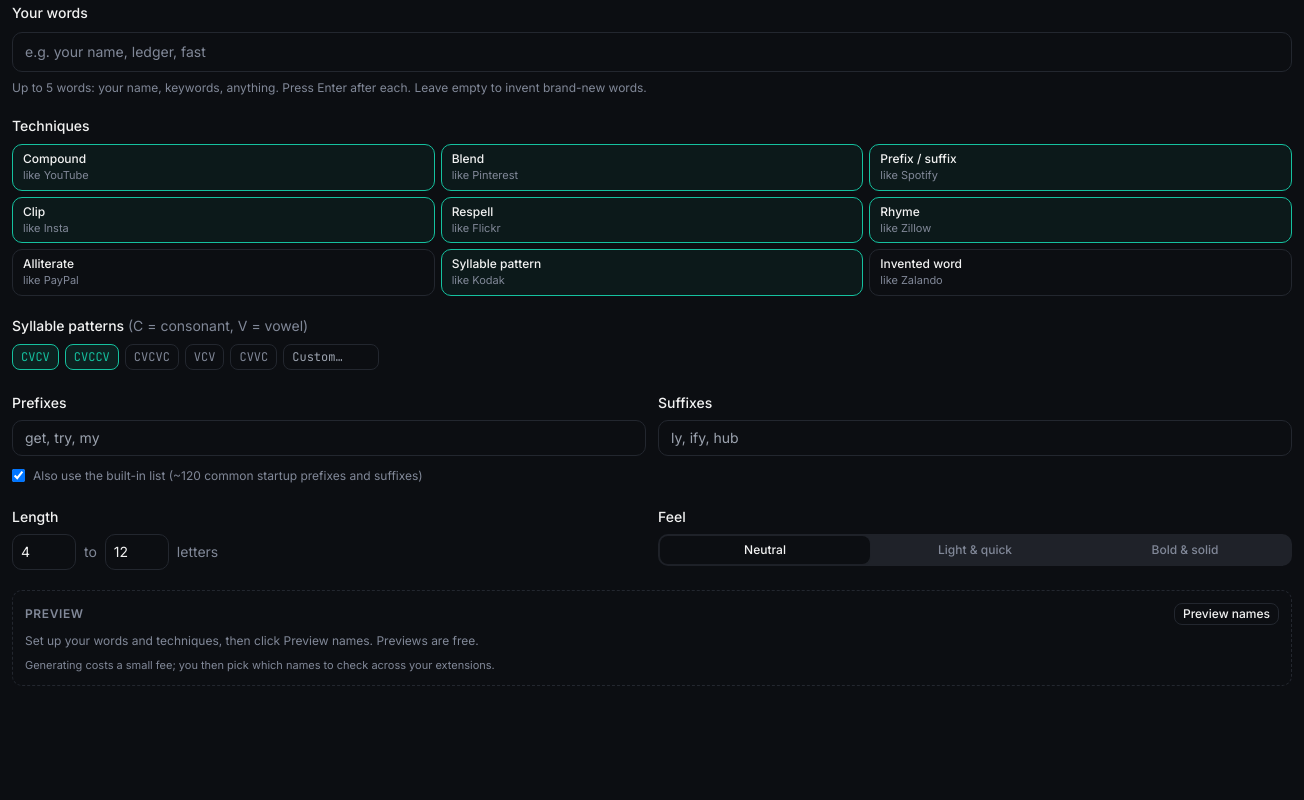
Test case: WordBuilder › only previews when Preview names is clicked
Type "ledger" into the field labelled "Your words" at coordinates (652, 52), box x1=21 y1=42 x2=1283 y2=62
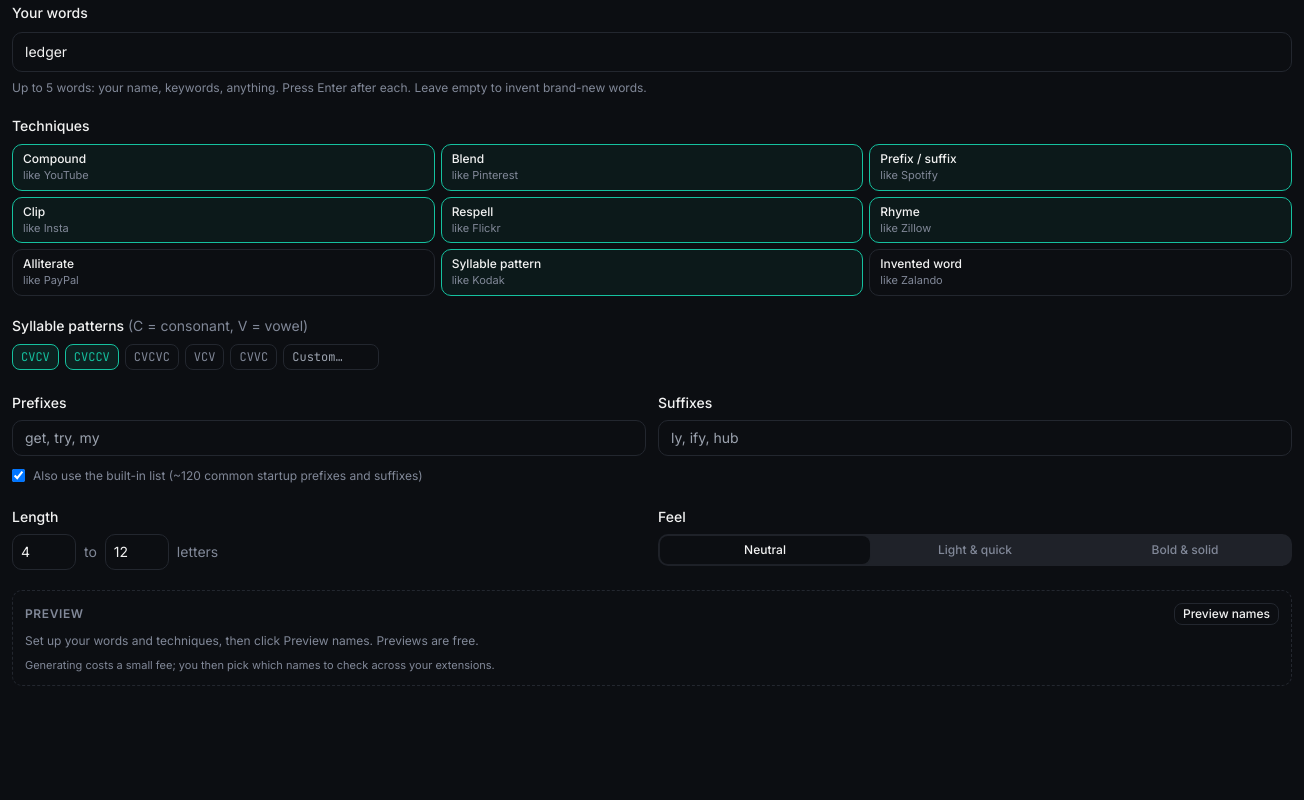
Press Enter in the field labelled "Your words", box x1=21 y1=42 x2=1283 y2=62
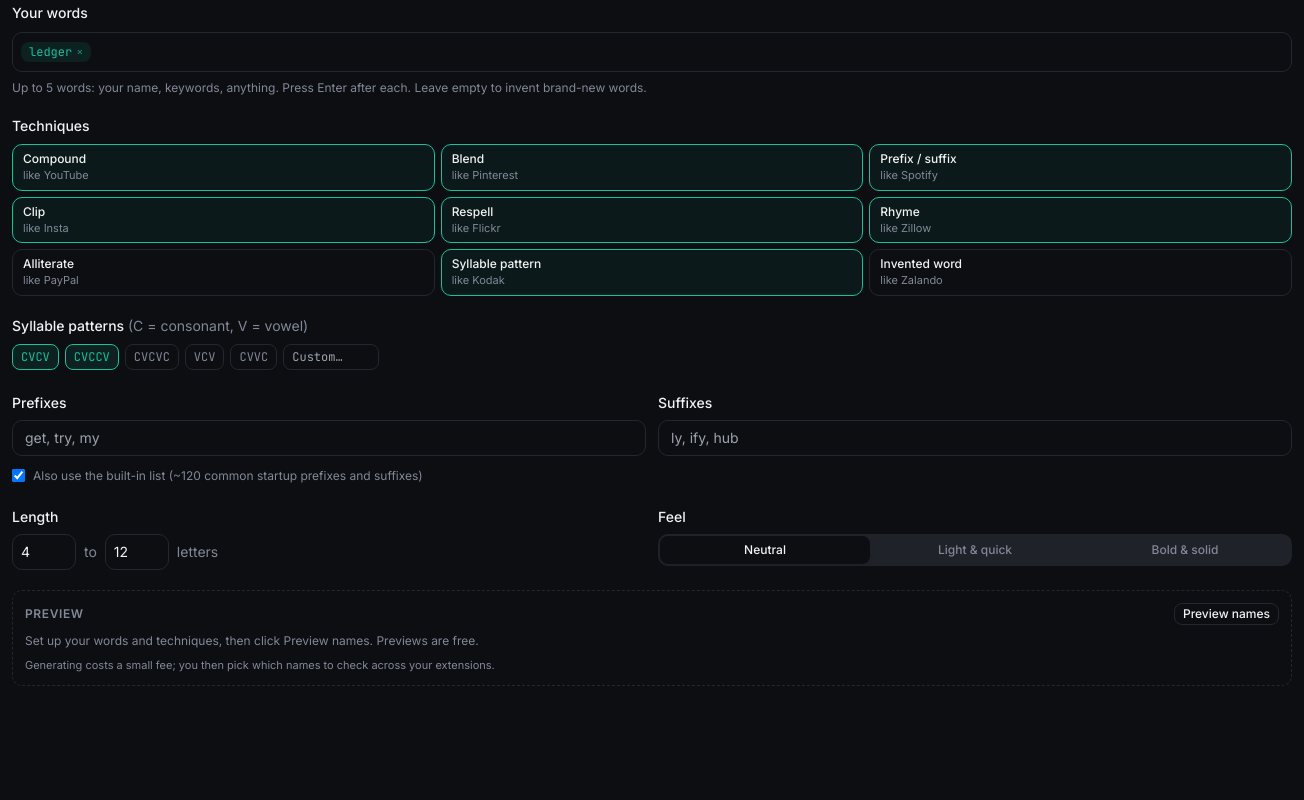
Click the text "Blend" at coordinates (468, 159), box x1=452 y1=151 x2=484 y2=167
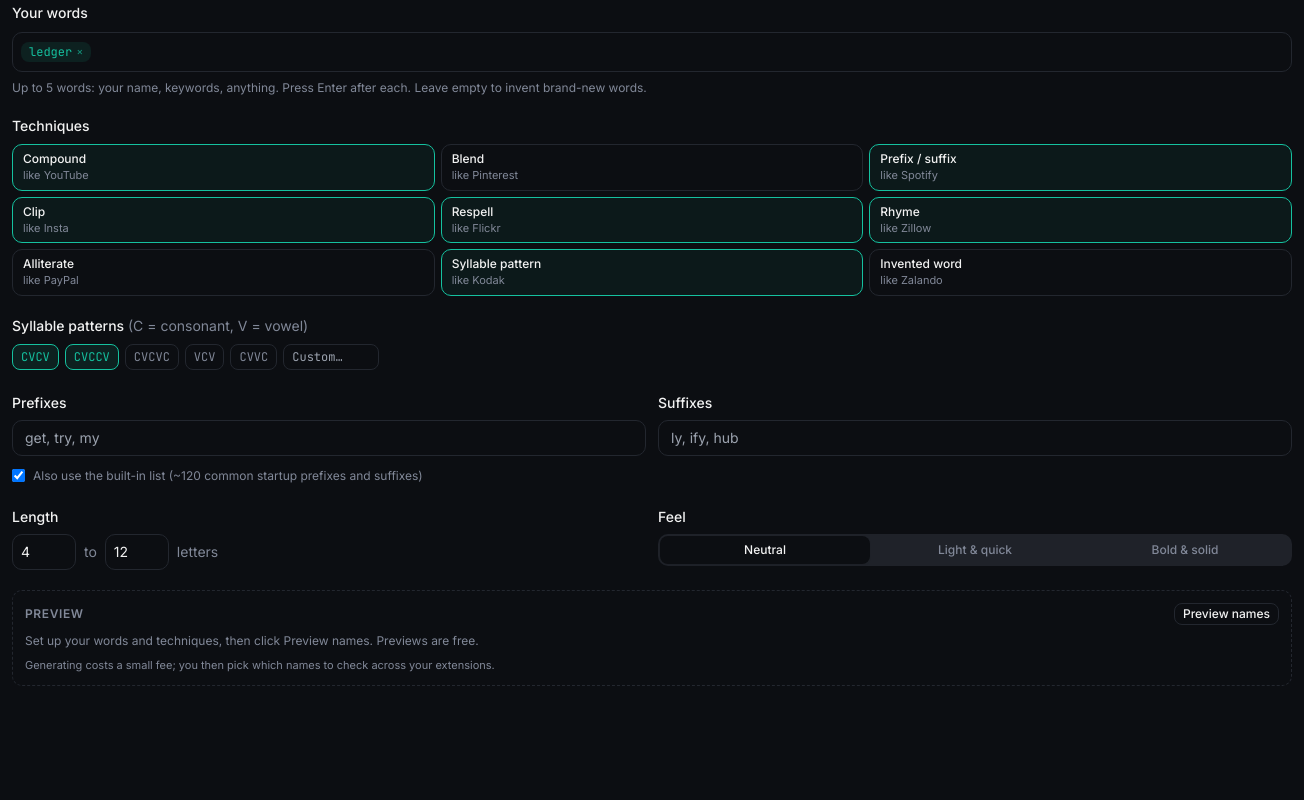
Click the button "Preview names" at coordinates (1226, 614), box x1=1174 y1=602 x2=1279 y2=624
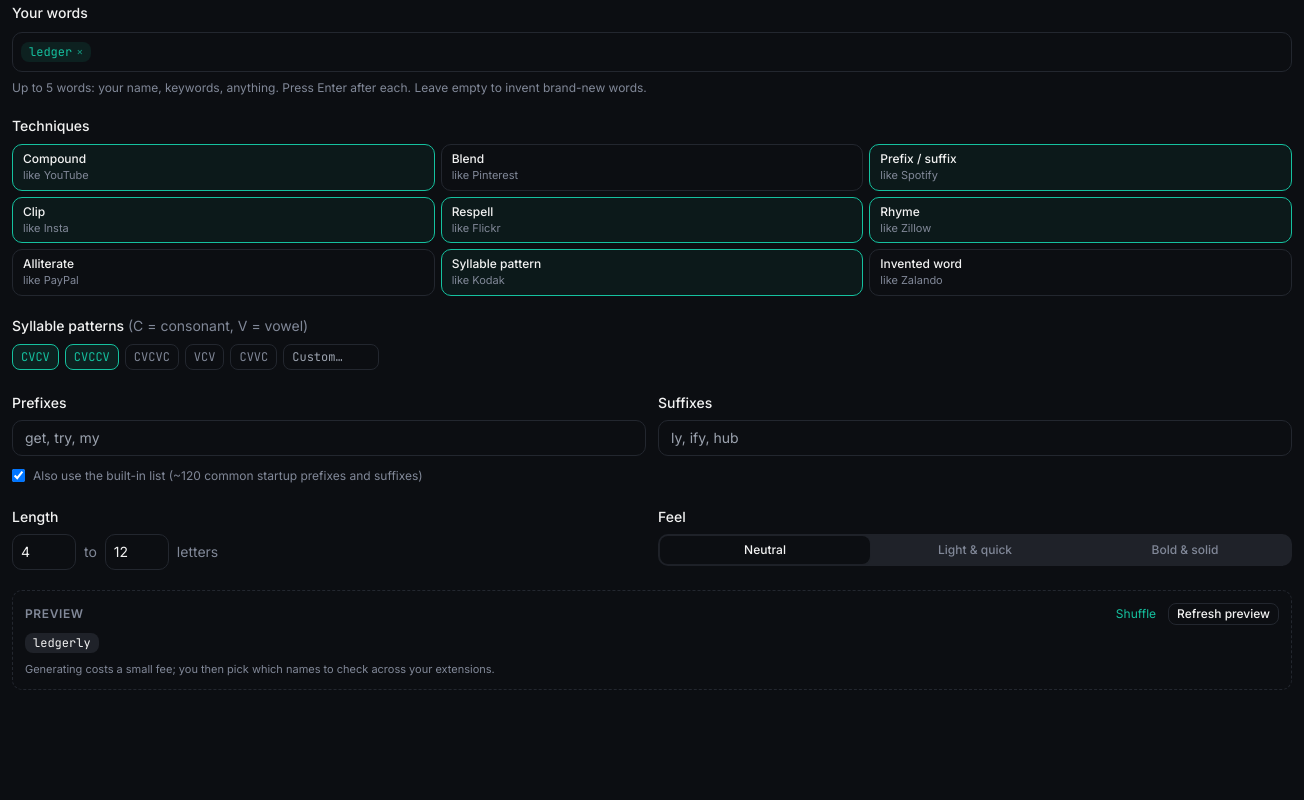
Expected: the text "ledgerly" is shown, x1=25 y1=632 x2=99 y2=652
